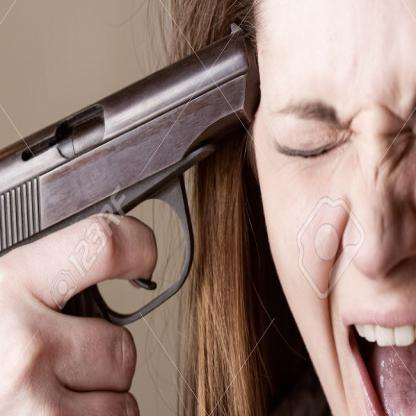gun: (0, 22, 263, 416)
